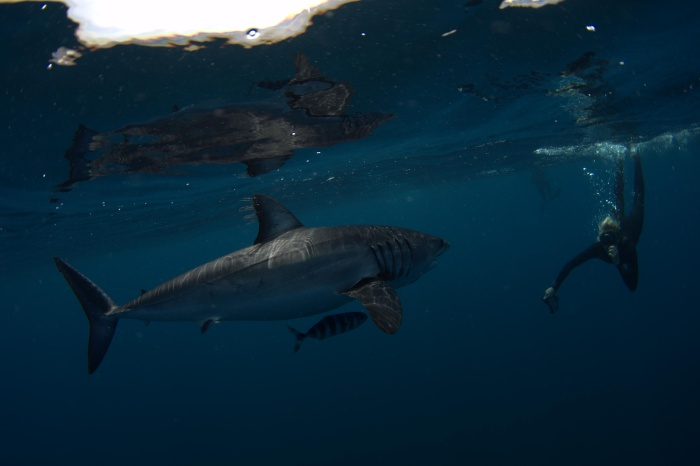Mako: (49, 186, 467, 385)
